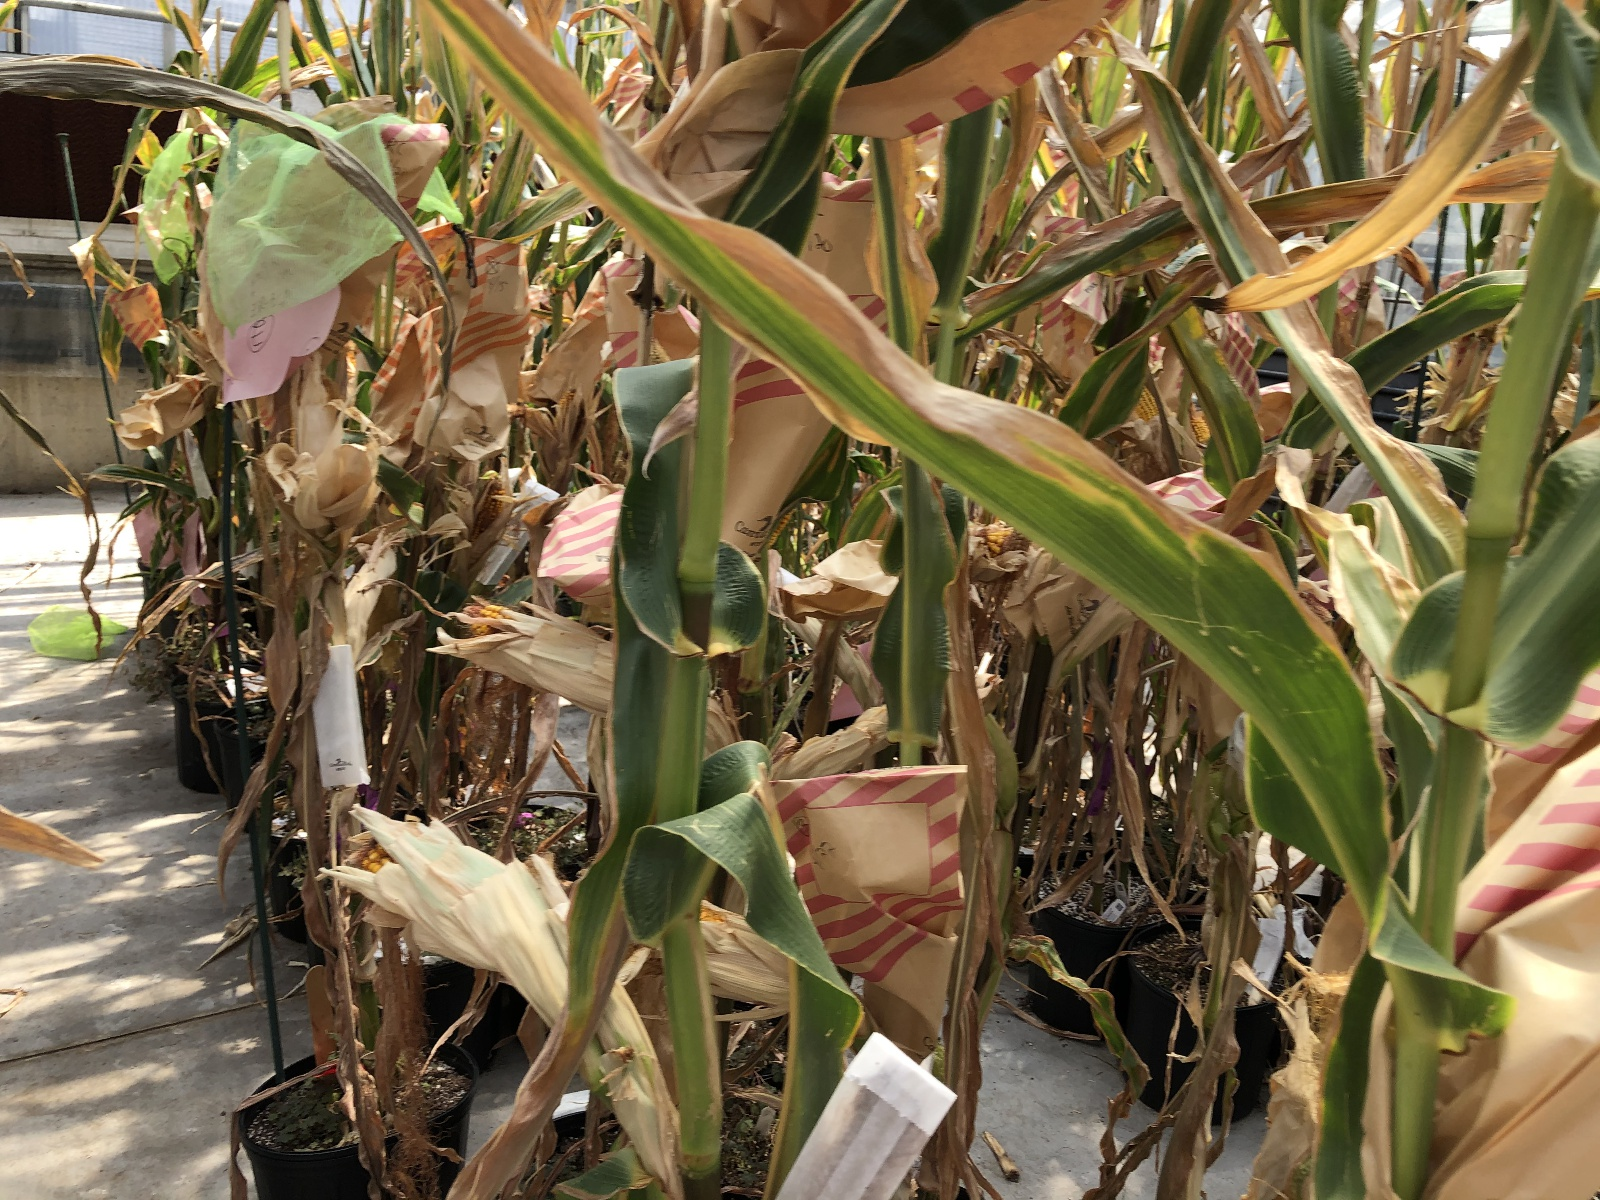ear: (341, 807, 609, 1045), (703, 899, 792, 1003), (469, 475, 505, 545), (983, 521, 1041, 550), (1186, 396, 1211, 446), (1136, 379, 1163, 421)
w: (442, 596, 736, 729)
